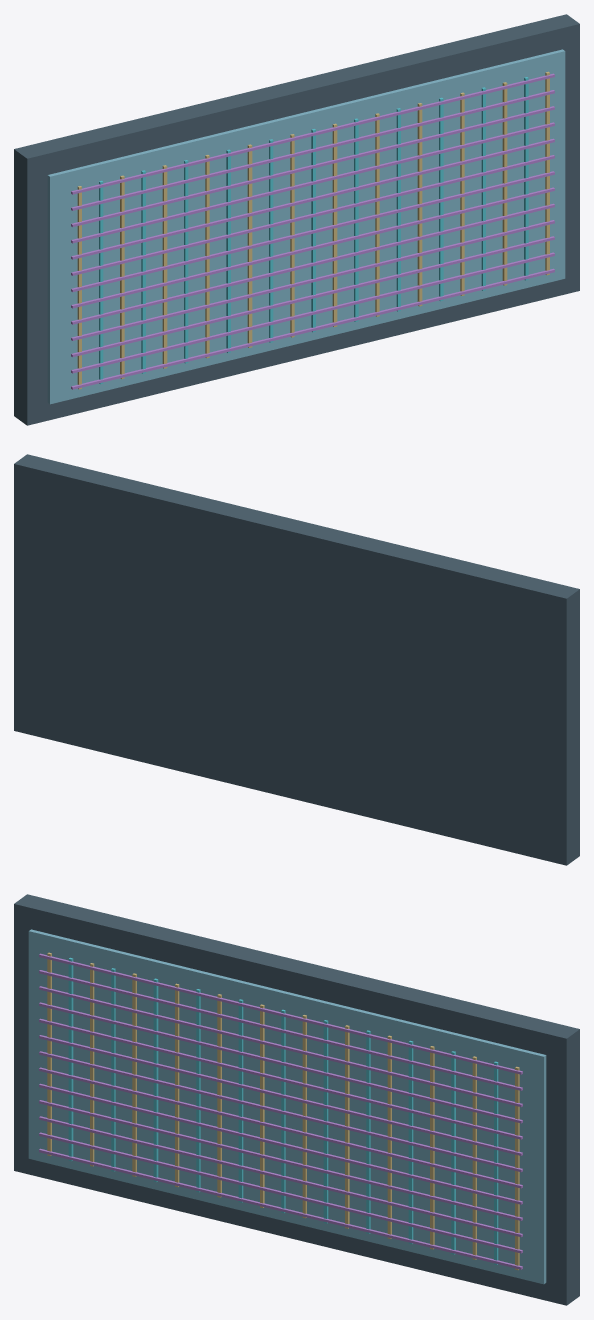
The model's file is 31_L79_MoireOverlayProjectionSystem.glb.
The picture shows the model from 3 angles, top to bottom: view 1: azimuth 30°, elevation 25°; view 2: azimuth 150°, elevation 25°; view 3: azimuth 330°, elevation 25°; orthographic projection.
Visible parts, largest first — view 1: MoireOverlayProjectionSystem_Node_0001, MoireOverlayProjectionSystem_Node_0000, MoireOverlayProjectionSystem_Node_0033, MoireOverlayProjectionSystem_Node_0034, MoireOverlayProjectionSystem_Node_0032, MoireOverlayProjectionSystem_Node_0035, MoireOverlayProjectionSystem_Node_0036, MoireOverlayProjectionSystem_Node_0037, MoireOverlayProjectionSystem_Node_0025, MoireOverlayProjectionSystem_Node_0029, MoireOverlayProjectionSystem_Node_0030, MoireOverlayProjectionSystem_Node_0031 (+26 smaller); view 2: MoireOverlayProjectionSystem_Node_0000; view 3: MoireOverlayProjectionSystem_Node_0001, MoireOverlayProjectionSystem_Node_0000, MoireOverlayProjectionSystem_Node_0032, MoireOverlayProjectionSystem_Node_0033, MoireOverlayProjectionSystem_Node_0029, MoireOverlayProjectionSystem_Node_0031, MoireOverlayProjectionSystem_Node_0028, MoireOverlayProjectionSystem_Node_0034, MoireOverlayProjectionSystem_Node_0035, MoireOverlayProjectionSystem_Node_0027, MoireOverlayProjectionSystem_Node_0030, MoireOverlayProjectionSystem_Node_0025 (+26 smaller).
Part boxes in pixels (box(x1,y1,x2,y2)): MoireOverlayProjectionSystem_Node_0001: box(47, 49, 565, 404); MoireOverlayProjectionSystem_Node_0000: box(14, 14, 579, 425); MoireOverlayProjectionSystem_Node_0033: box(71, 138, 554, 259); MoireOverlayProjectionSystem_Node_0034: box(71, 122, 554, 243); MoireOverlayProjectionSystem_Node_0032: box(71, 155, 554, 275); MoireOverlayProjectionSystem_Node_0035: box(71, 106, 554, 227); MoireOverlayProjectionSystem_Node_0036: box(71, 90, 554, 210); MoireOverlayProjectionSystem_Node_0037: box(71, 73, 554, 194); MoireOverlayProjectionSystem_Node_0025: box(71, 268, 554, 389); MoireOverlayProjectionSystem_Node_0029: box(71, 203, 554, 324); MoireOverlayProjectionSystem_Node_0030: box(71, 187, 554, 308); MoireOverlayProjectionSystem_Node_0031: box(71, 171, 554, 292); MoireOverlayProjectionSystem_Node_0000: box(14, 454, 579, 865); MoireOverlayProjectionSystem_Node_0001: box(28, 929, 546, 1284); MoireOverlayProjectionSystem_Node_0000: box(14, 894, 579, 1305); MoireOverlayProjectionSystem_Node_0032: box(39, 1035, 522, 1155); MoireOverlayProjectionSystem_Node_0033: box(39, 1018, 522, 1139); MoireOverlayProjectionSystem_Node_0029: box(39, 1083, 522, 1204); MoireOverlayProjectionSystem_Node_0031: box(39, 1051, 522, 1172); MoireOverlayProjectionSystem_Node_0028: box(39, 1100, 522, 1220); MoireOverlayProjectionSystem_Node_0034: box(39, 1002, 522, 1123); MoireOverlayProjectionSystem_Node_0035: box(39, 986, 522, 1107); MoireOverlayProjectionSystem_Node_0027: box(39, 1116, 522, 1237); MoireOverlayProjectionSystem_Node_0030: box(39, 1067, 522, 1188); MoireOverlayProjectionSystem_Node_0025: box(39, 1148, 522, 1269).
Size of the model in its own units: 3.38 by 1.56 by 0.2475.
